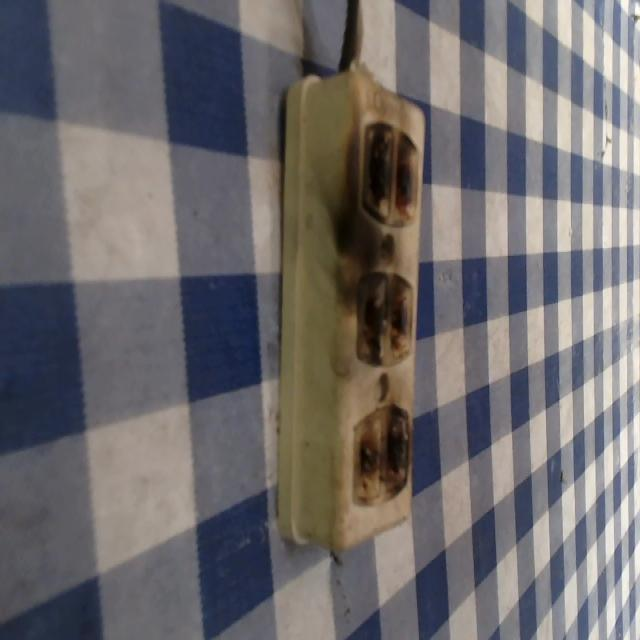-: (357, 114, 423, 230), (348, 400, 409, 507), (355, 267, 414, 364)
